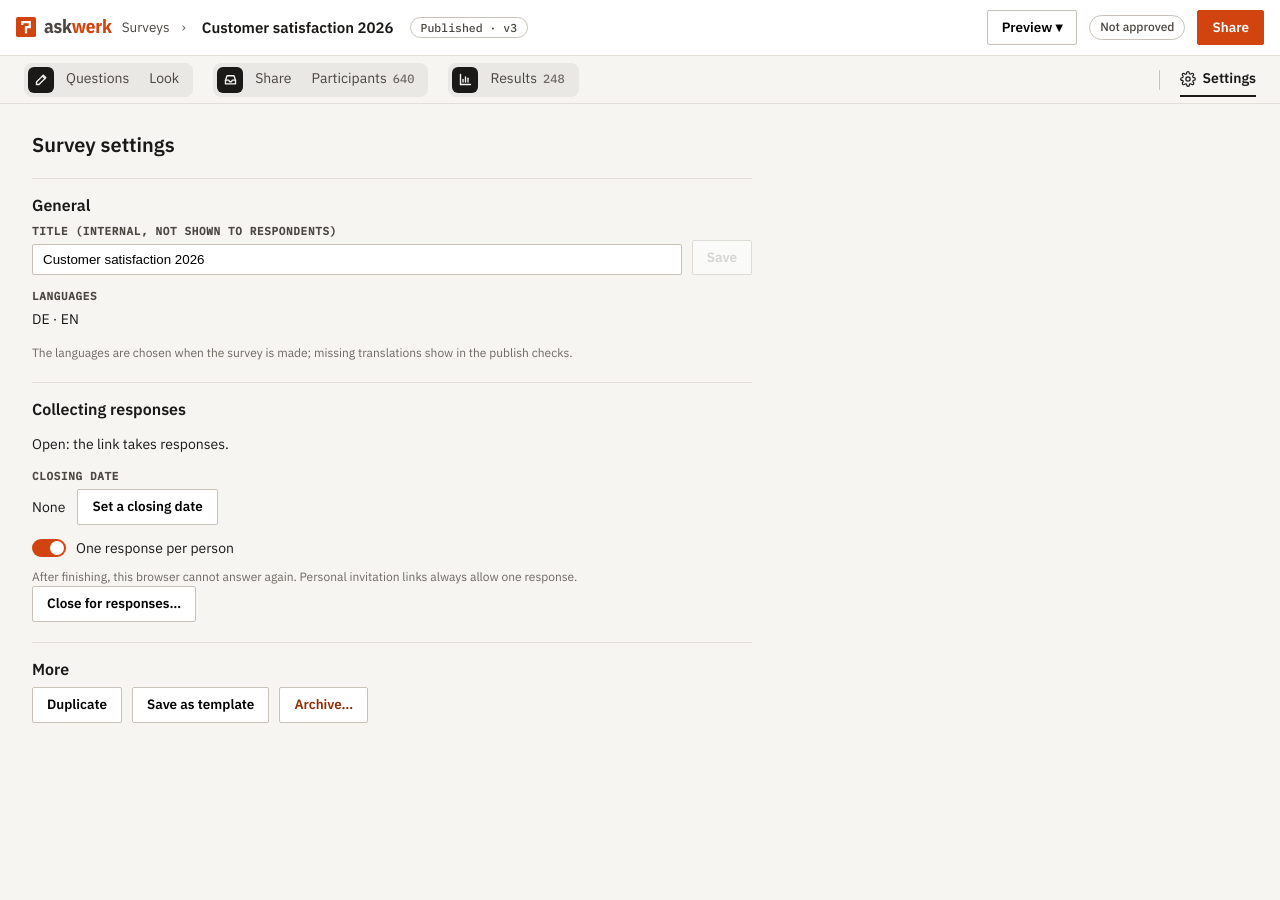
Scenario: Collecting responses: closing date and one response per person (W24) › turns one response per person off and says it saved
Expected: the heading "Survey settings" is shown, [32,131,175,158]
Expected: the text "After finishing, this browser cannot answer again. Personal invitation links always allow one response." is shown, [32,569,577,584]
Click the switch labelled "One response per person": [133, 548] box [32,539,234,557]
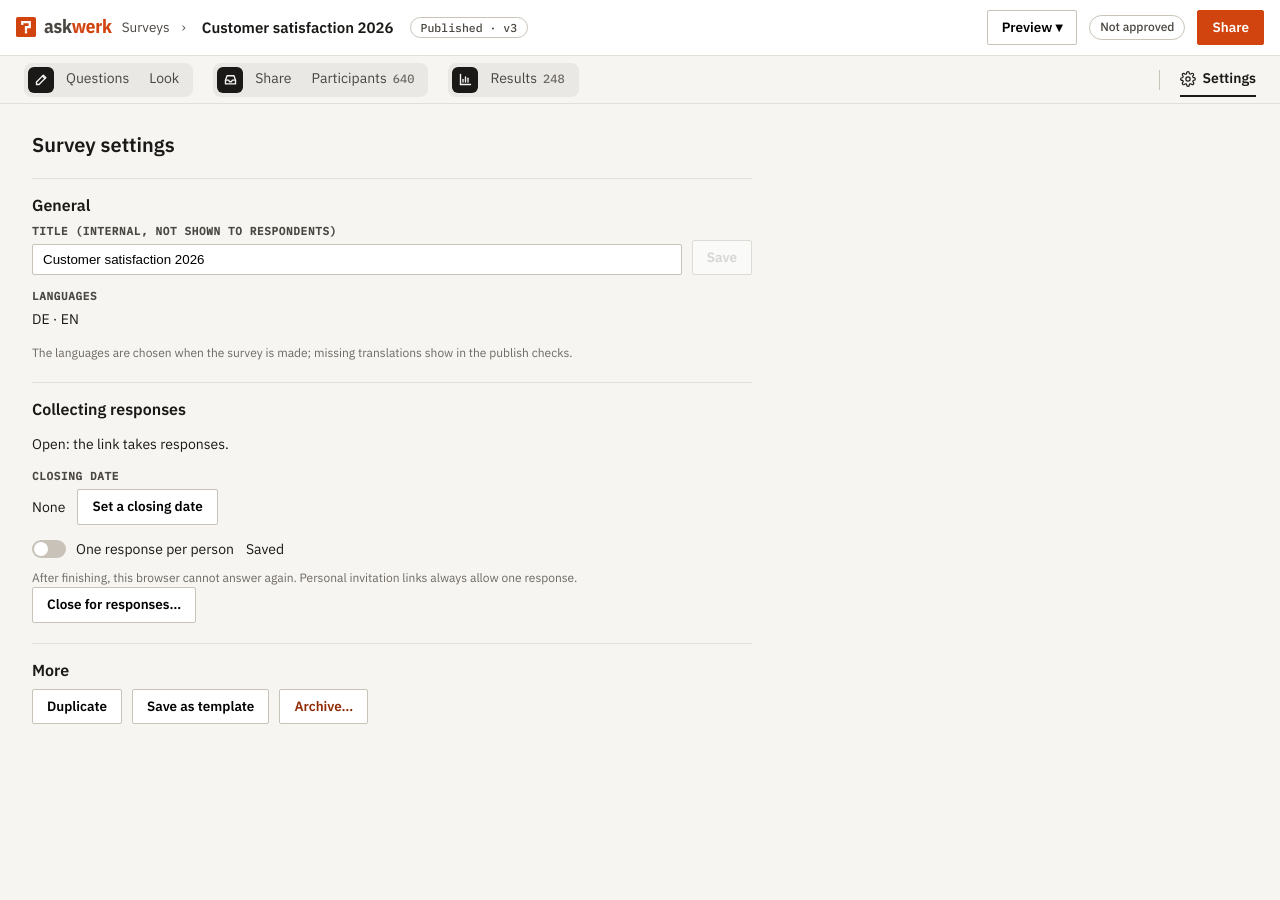
Expected: the text "Saved" is shown, [246,539,284,560]
